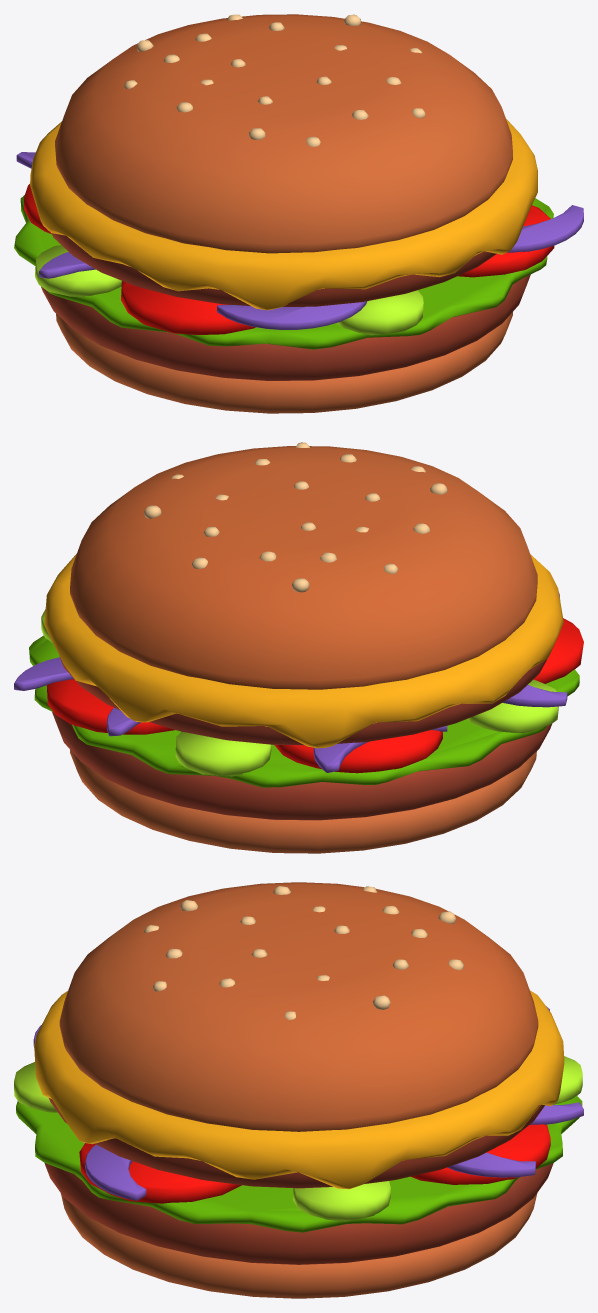
Rendered from Burger.fbx.
3 views of the same model, one above another, from view 1: azimuth 30°, elevation 25°; view 2: azimuth 150°, elevation 25°; view 3: azimuth 270°, elevation 25° (orthographic). The views are drawn at different scales.
Visible parts, largest first — view 1: Burger; view 2: Burger; view 3: Burger.
Boxes of the visible parts, x1,y1,x2,y2 form: Burger: [14, 14, 583, 413]; Burger: [14, 442, 583, 853]; Burger: [14, 882, 583, 1298].
Size of the model in its own units: 194 by 96.78 by 189.
